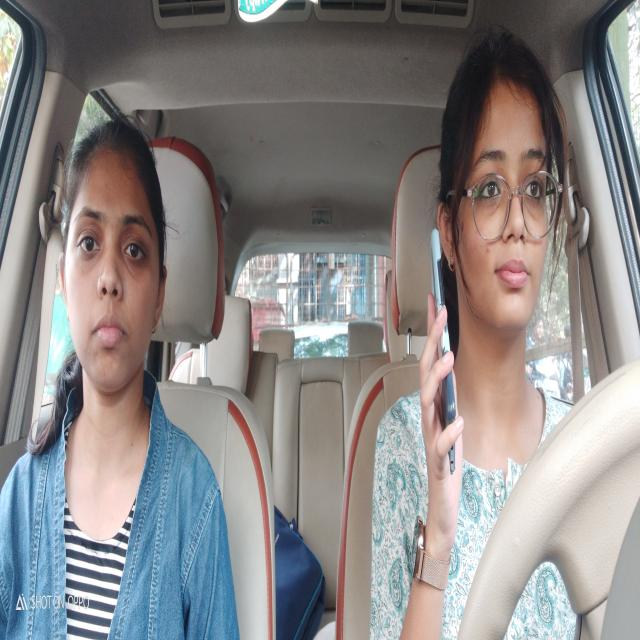mobile: (426, 225, 468, 482)
person: (441, 30, 562, 328), (54, 114, 169, 400)
